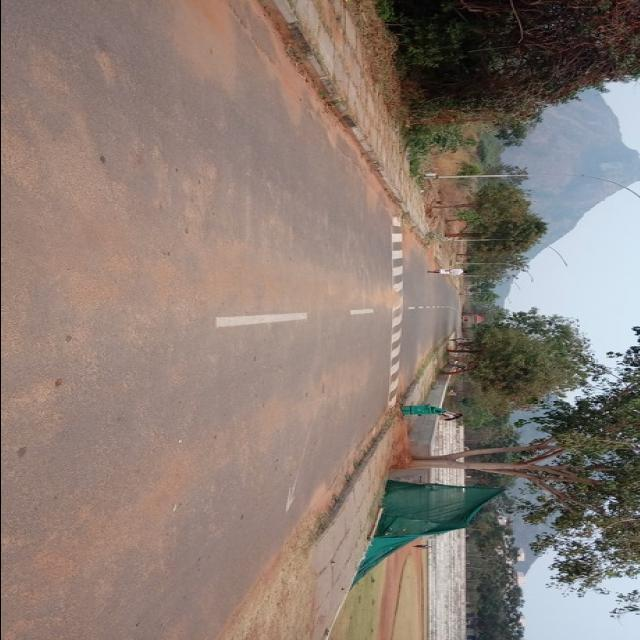speedbreaker: (375, 222, 414, 404)
